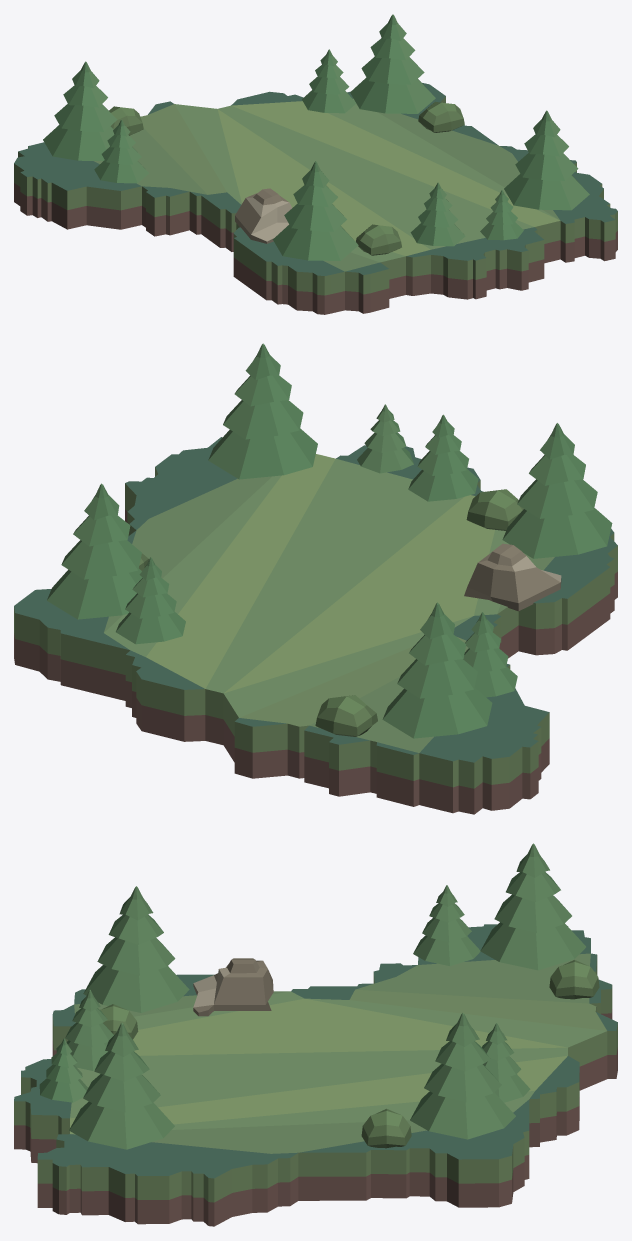
Rendered from ustnera.gltf.
3 renders of one model, top to bottom at view 1: azimuth 30°, elevation 25°; view 2: azimuth 150°, elevation 25°; view 3: azimuth 270°, elevation 25°, orthographic. The views are drawn at different scales.
Visible parts, largest first — view 1: усть-нера; view 2: усть-нера; view 3: усть-нера.
Boxes of the visible parts, x1,y1,x2,y2 form: усть-нера: [14, 14, 617, 314]; усть-нера: [14, 343, 617, 814]; усть-нера: [14, 843, 617, 1226].
Size of the model in its own units: 1.81 by 0.5325 by 1.78.
